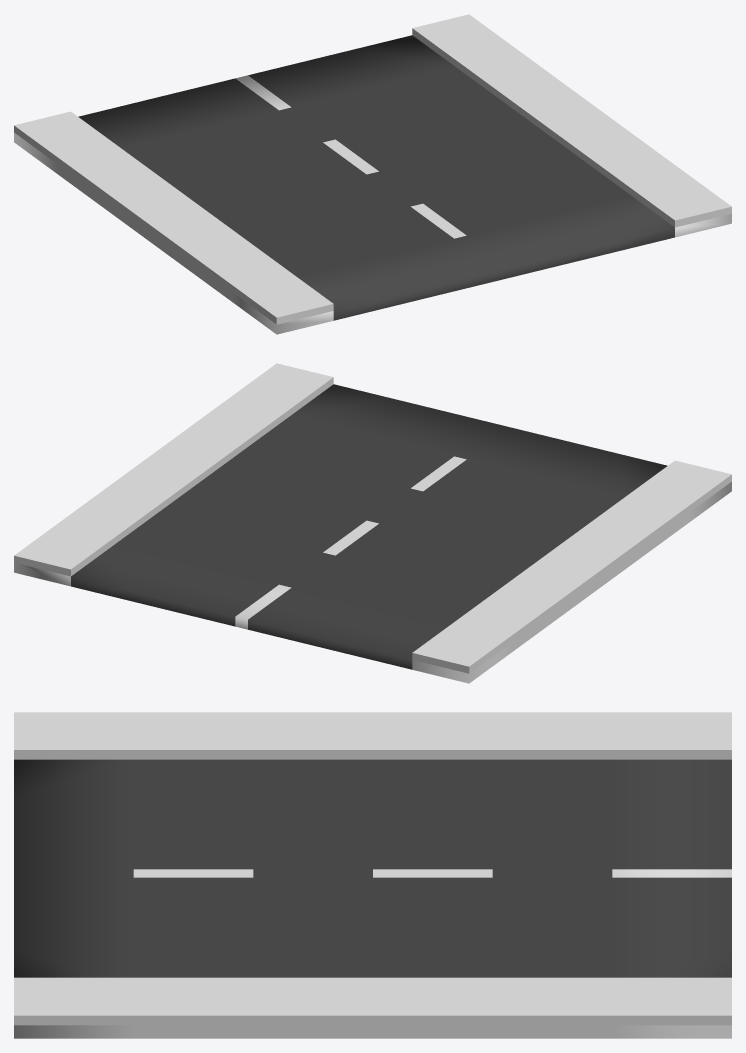
The model's file is two-lane-linear-road-piece-edited.fbx.
3 views of the same model, one above another, from view 1: azimuth 30°, elevation 25°; view 2: azimuth 150°, elevation 25°; view 3: azimuth 270°, elevation 25° (orthographic). The views are drawn at different scales.
Visible parts, largest first — view 1: two-lane-linear-road-piece; view 2: two-lane-linear-road-piece; view 3: two-lane-linear-road-piece.
Boxes of the visible parts, x1,y1,x2,y2 form: two-lane-linear-road-piece: (14, 14, 731, 334); two-lane-linear-road-piece: (14, 363, 731, 683); two-lane-linear-road-piece: (14, 712, 731, 1038).
Bounding box in the file's own units: 1120 × 39.85 × 1120.
